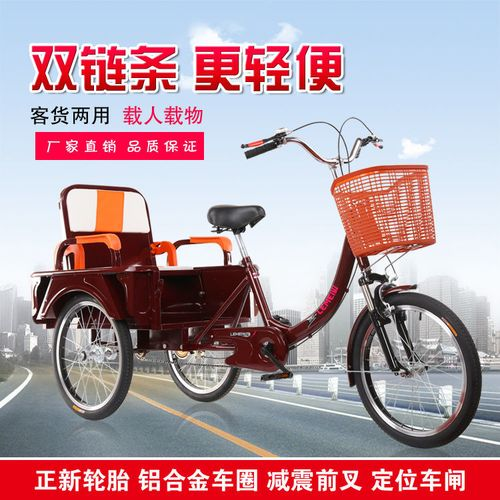empty: (18, 118, 499, 448)
